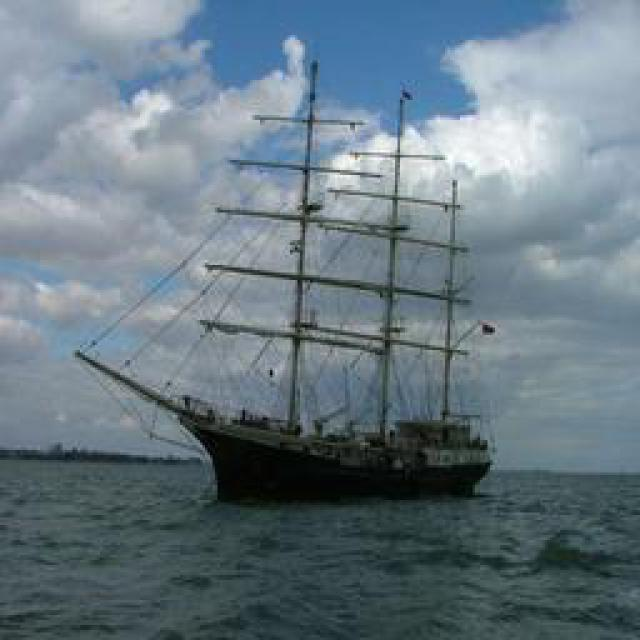Ship: (81, 38, 506, 496)
